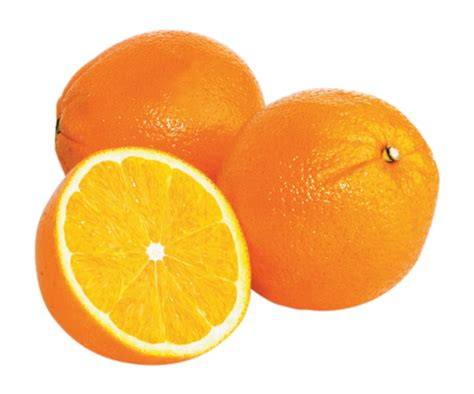orange: (224, 85, 441, 313), (57, 28, 268, 179)
